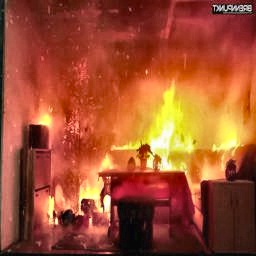fire: (115, 51, 255, 147)
